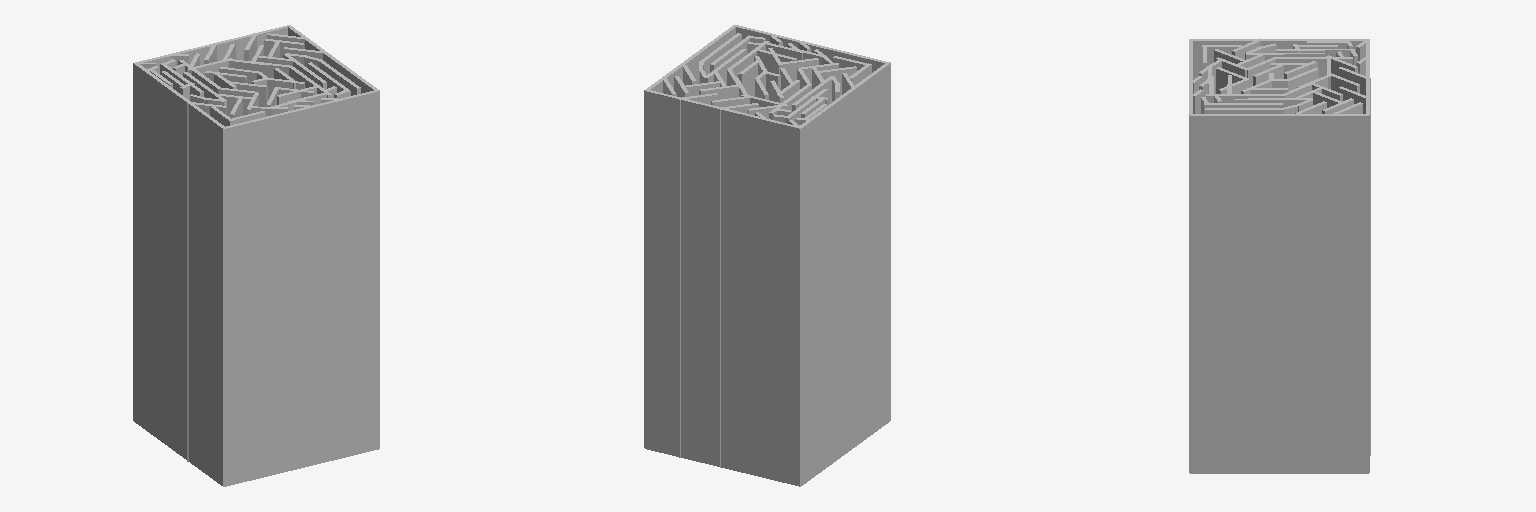
The model's file is Maze.obj.
The picture shows the model from 3 angles: view 1: azimuth 30°, elevation 25°; view 2: azimuth 150°, elevation 25°; view 3: azimuth 270°, elevation 25°; orthographic projection.
Parts seen in each view (by area): view 1: Cube; view 2: Cube; view 3: Cube.
Boxes of the visible parts, x1=… form: Cube: x1=133, y1=25, x2=379, y2=486; Cube: x1=644, y1=25, x2=890, y2=486; Cube: x1=1189, y1=38, x2=1370, y2=473.
Size of the model in its own units: 83.09 by 180 by 82.92.